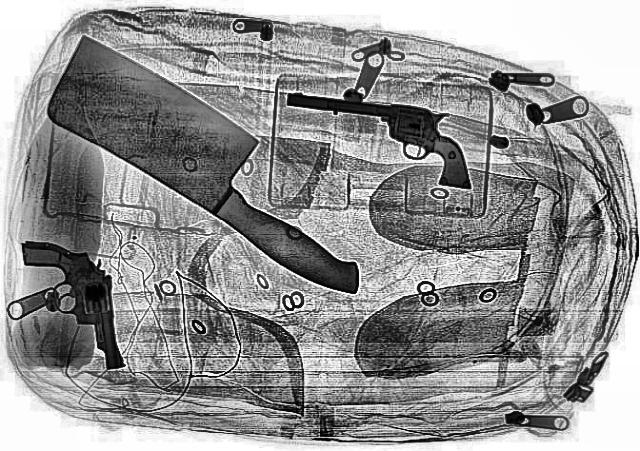Gun: (256, 64, 516, 196), (14, 234, 128, 374)
Knife: (1, 26, 432, 306)
